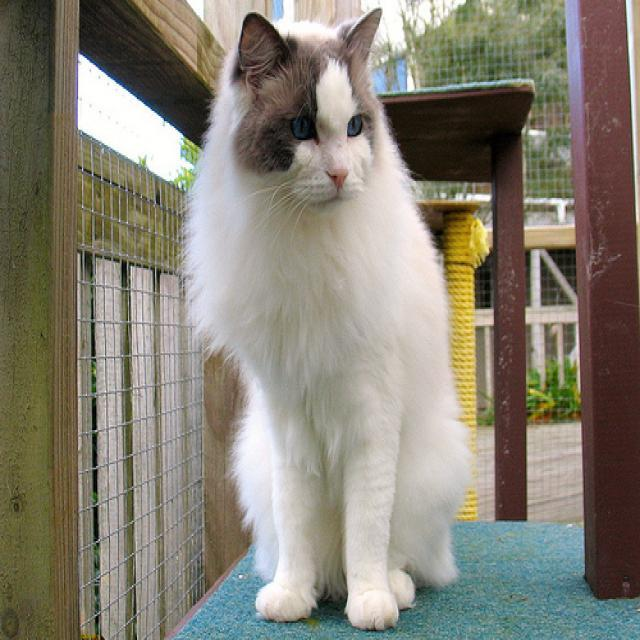Ragdoll: (233, 7, 391, 219)
